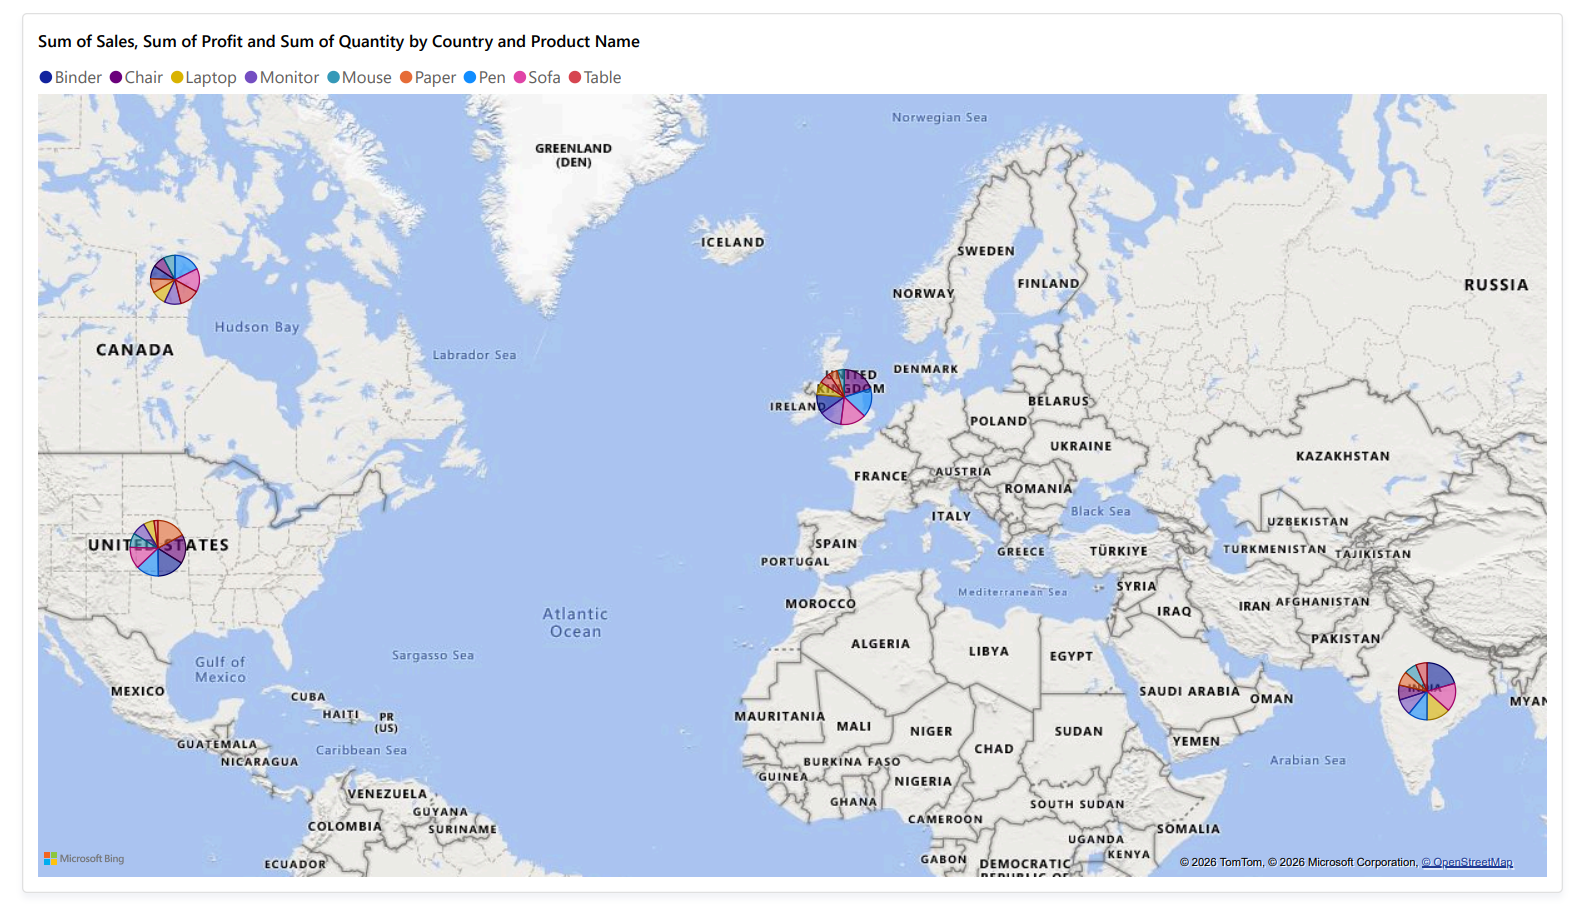

The dashboard page shown, as its layout file describes it:
{"tool":"powerbi","page":{"name":"Page 2","canvas":[1280,720],"ordinal":1},"visuals":[{"type":"map","fields":{"Category":["Sheet.Country"],"Size":["Sum(Sheet.Sales)"],"Series":["Sheet.Product Name"]},"box":[16,0,1232,704],"z":0}]}

Visuals, with their boxes in screenshot pixels (x1, y1, x2, y2), scaled from the page's 1280x720 canvas onto the 1577x907 screenshot:
map - Sheet.Country x Sum(Sheet.Sales): select_region(20, 0, 1538, 887)
